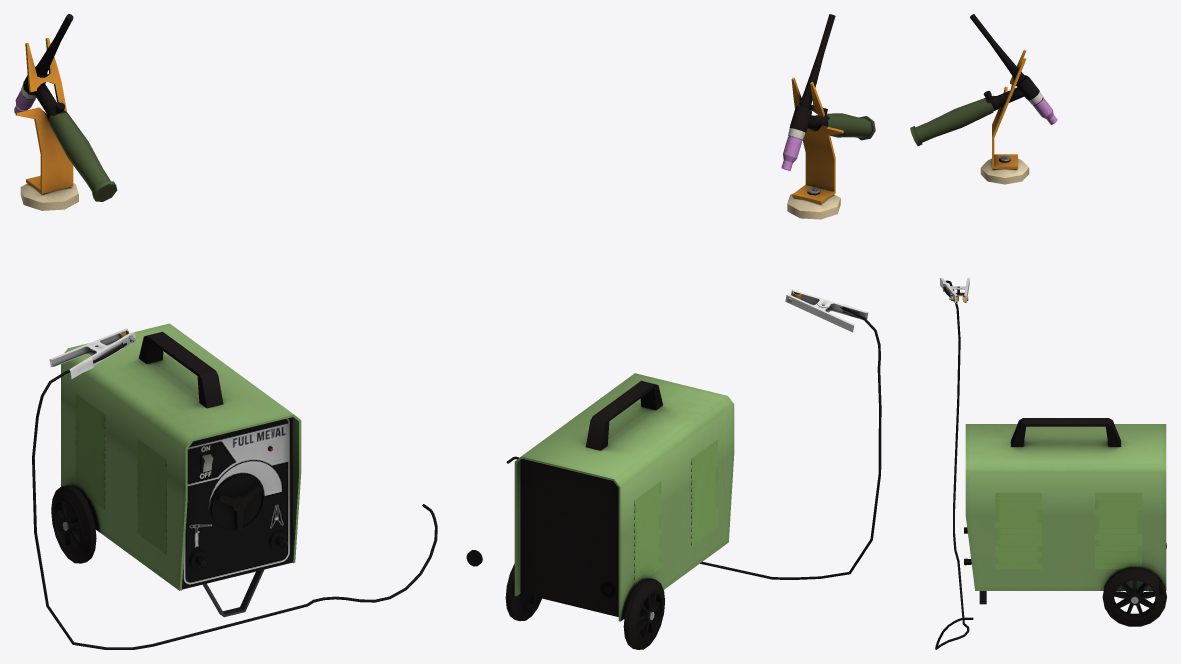
Rendered from Equipo Soldadura Electrica.FBX.
3 renders of one model, left to right at view 1: azimuth 30°, elevation 25°; view 2: azimuth 150°, elevation 25°; view 3: azimuth 270°, elevation 25°, orthographic. The views are drawn at different scales.
Parts seen in each view (by area): view 1: Carcasa, Interior, Base soldador, Punta_electrodo, Ruedas, conector_cable_electrodo001, Manija, Pinza_de_masa, Voltage; view 2: Carcasa, Interior, Base soldador, Ruedas, Punta_electrodo, Manija, conector_cable_electrodo001, Pinza_de_masa; view 3: Carcasa, Punta_electrodo, Ruedas, Base soldador, Manija, conector_cable_electrodo001, Pinza_de_masa.
Part boxes in pixels (x1,y1,x2,y2): Carcasa: [61, 323, 301, 617]; Interior: [182, 417, 292, 589]; Base soldador: [15, 38, 78, 210]; Punta_electrodo: [14, 14, 117, 201]; Ruedas: [51, 485, 96, 563]; conector_cable_electrodo001: [32, 343, 437, 649]; Manija: [138, 331, 223, 408]; Pinza_de_masa: [49, 328, 136, 378]; Voltage: [216, 484, 261, 529]; Carcasa: [514, 373, 734, 621]; Interior: [520, 459, 618, 616]; Base soldador: [787, 77, 843, 219]; Ruedas: [505, 563, 664, 649]; Punta_electrodo: [781, 14, 875, 170]; Manija: [585, 380, 662, 450]; conector_cable_electrodo001: [466, 307, 881, 579]; Pinza_de_masa: [785, 289, 868, 332]; Carcasa: [965, 424, 1166, 604]; Punta_electrodo: [910, 14, 1057, 145]; Ruedas: [1102, 543, 1166, 626]; Base soldador: [980, 50, 1029, 184]; Manija: [1011, 418, 1120, 446]; conector_cable_electrodo001: [935, 280, 1162, 649]; Pinza_de_masa: [940, 278, 969, 303].
Bounding box in the file's own units: 0.7624 × 1.17 × 0.5246.
